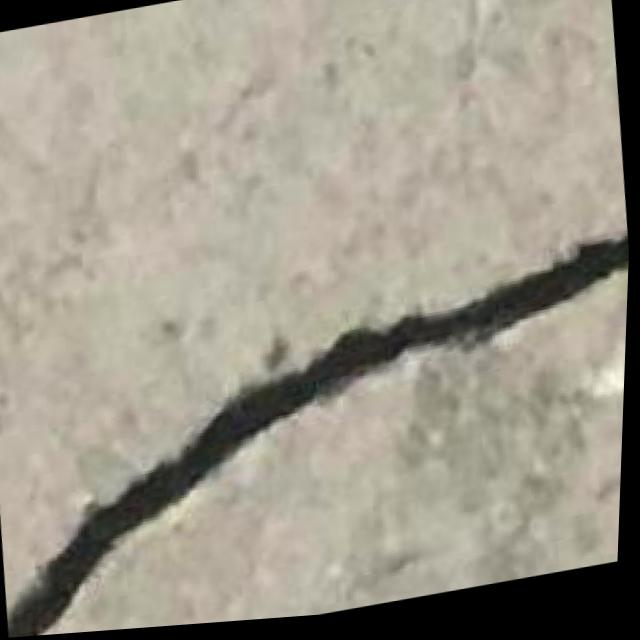Crack: (0, 220, 633, 640)
